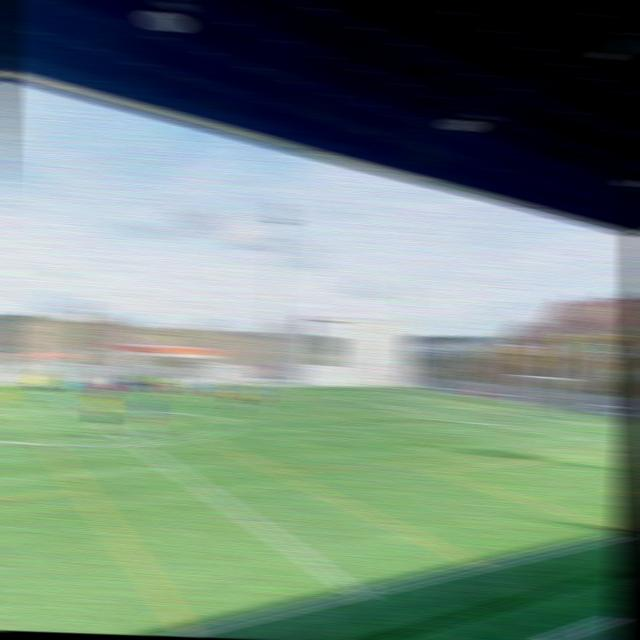bigarea_top_inner: (327, 396, 342, 399)
bigarea_top_outter: (416, 396, 432, 400)
bottom_arc_area_intersection: (483, 416, 505, 429)
corner: (369, 390, 384, 392)
halfcircle_bottom: (123, 436, 148, 451)
halfcircle_top: (70, 404, 88, 415)
midline_bottom_intersection: (344, 578, 373, 608)
midline_top_intersection: (40, 388, 55, 395)
smallarea_bottom_inner: (579, 421, 597, 428)
smallarea_bottom_outter: (608, 422, 626, 426)
smallarea_top_inner: (446, 403, 463, 409)
smallarea_top_outter: (474, 403, 490, 408)
top_arc_area_intersection: (386, 402, 404, 412)
